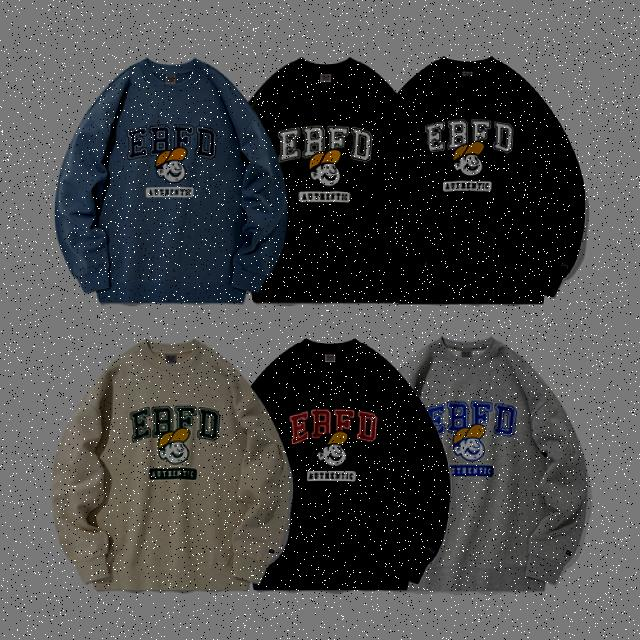Blouse_deep: (54, 340, 292, 592), (58, 60, 285, 303), (253, 332, 448, 588), (242, 58, 433, 297)
